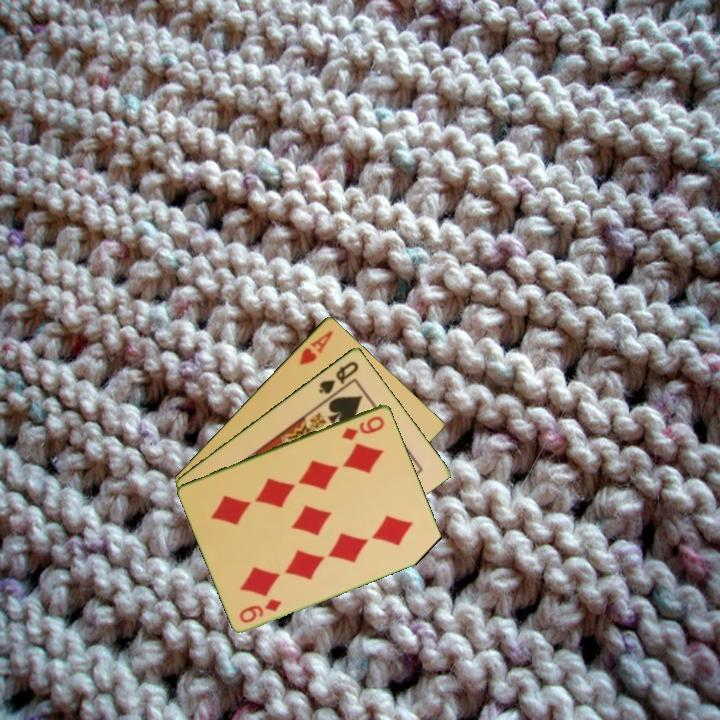9d: (338, 412, 387, 443), (236, 595, 285, 626)
Ah: (296, 326, 336, 368)
Qs: (315, 357, 362, 396)
